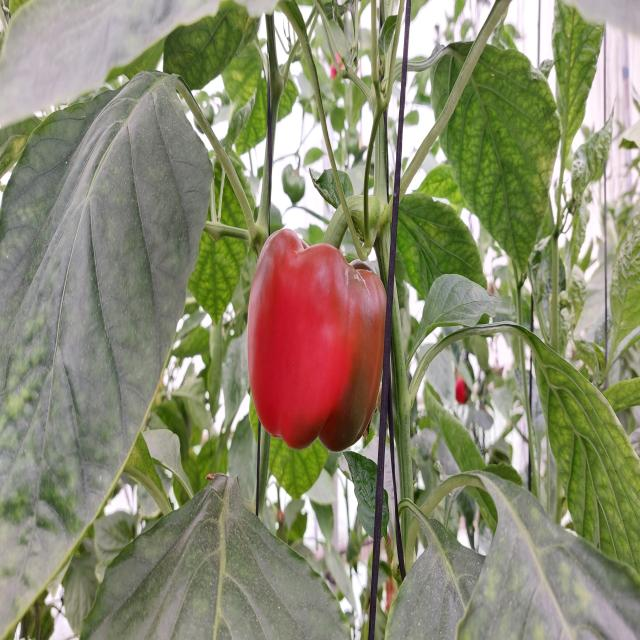Red-Ready-to-Harvest: (242, 214, 386, 452)
